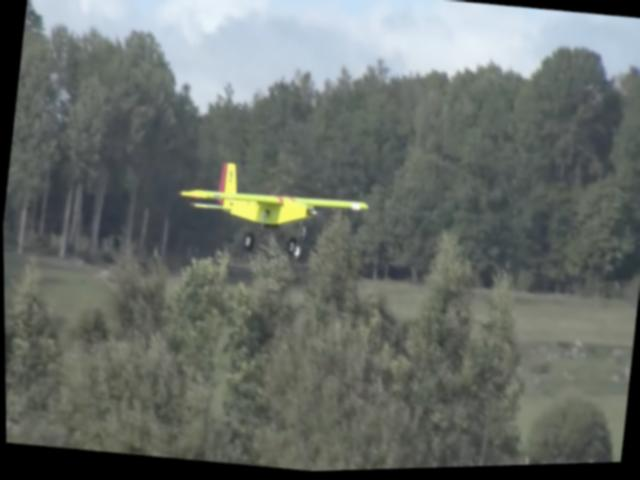plane: (170, 154, 373, 273)
